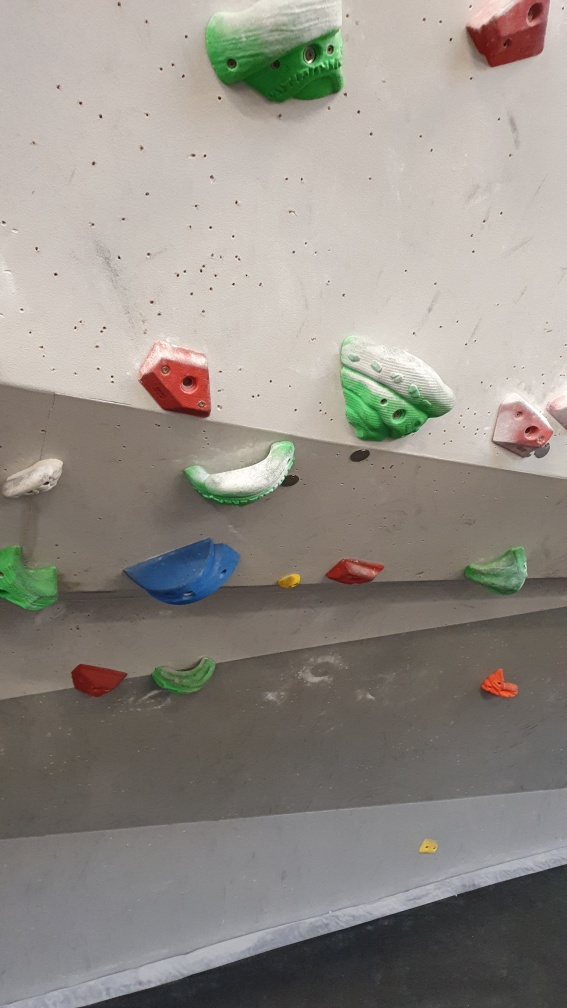Crimp: (135, 338, 222, 422), (463, 1, 553, 67), (489, 396, 553, 456), (320, 554, 389, 587)
Hand Start: (280, 468, 304, 494), (341, 446, 373, 465), (534, 440, 553, 461)
Jug: (205, 1, 352, 104), (338, 332, 458, 445), (180, 437, 299, 511), (1, 541, 63, 613), (464, 539, 529, 599), (146, 652, 220, 695), (1, 457, 66, 499)
Pinch: (118, 531, 248, 609)
